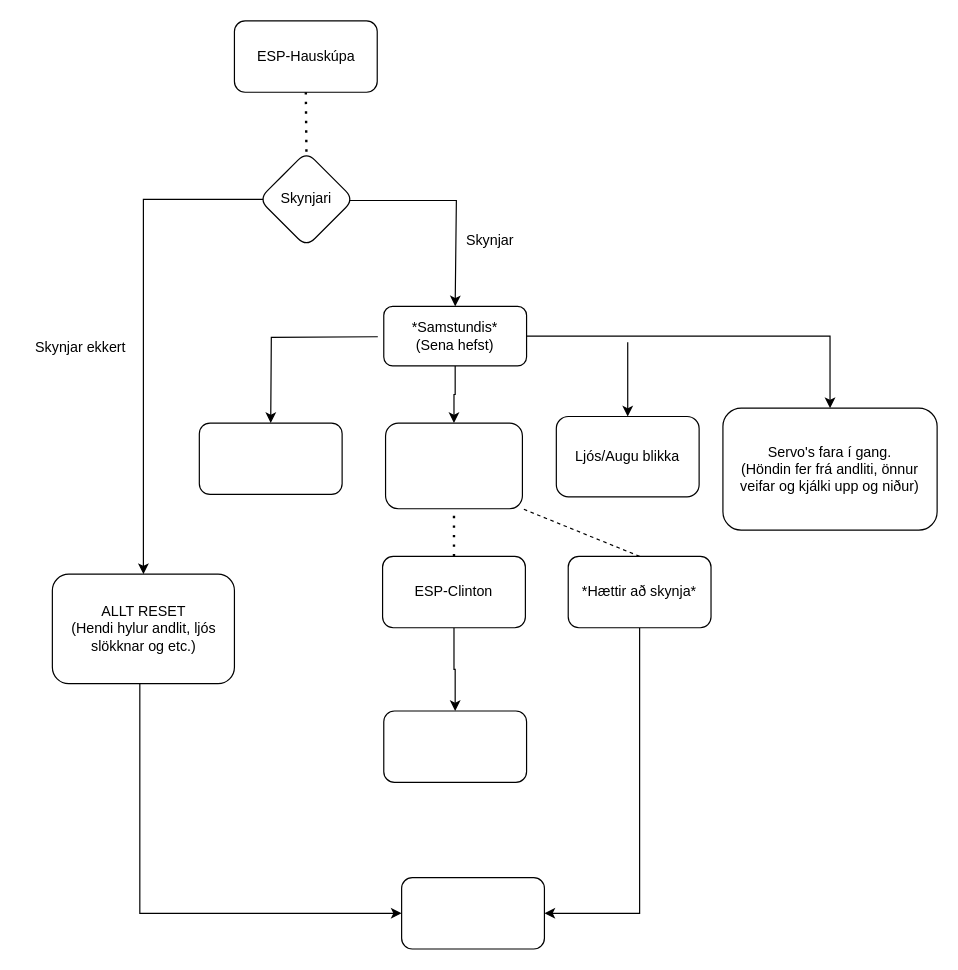
The diagram is 958 pixels wide and 970 high, and some of its shapes have lost their labels. Here are the shapes that lost their labels. From the top down, the centre of each, then its label:
the point at 270,458: MP3 Spilast
the point at 453,465: Sendir skilaboð
the point at 455,746: *Clinton bregðst við* (Spilar MP3)
the point at 472,912: STOP
